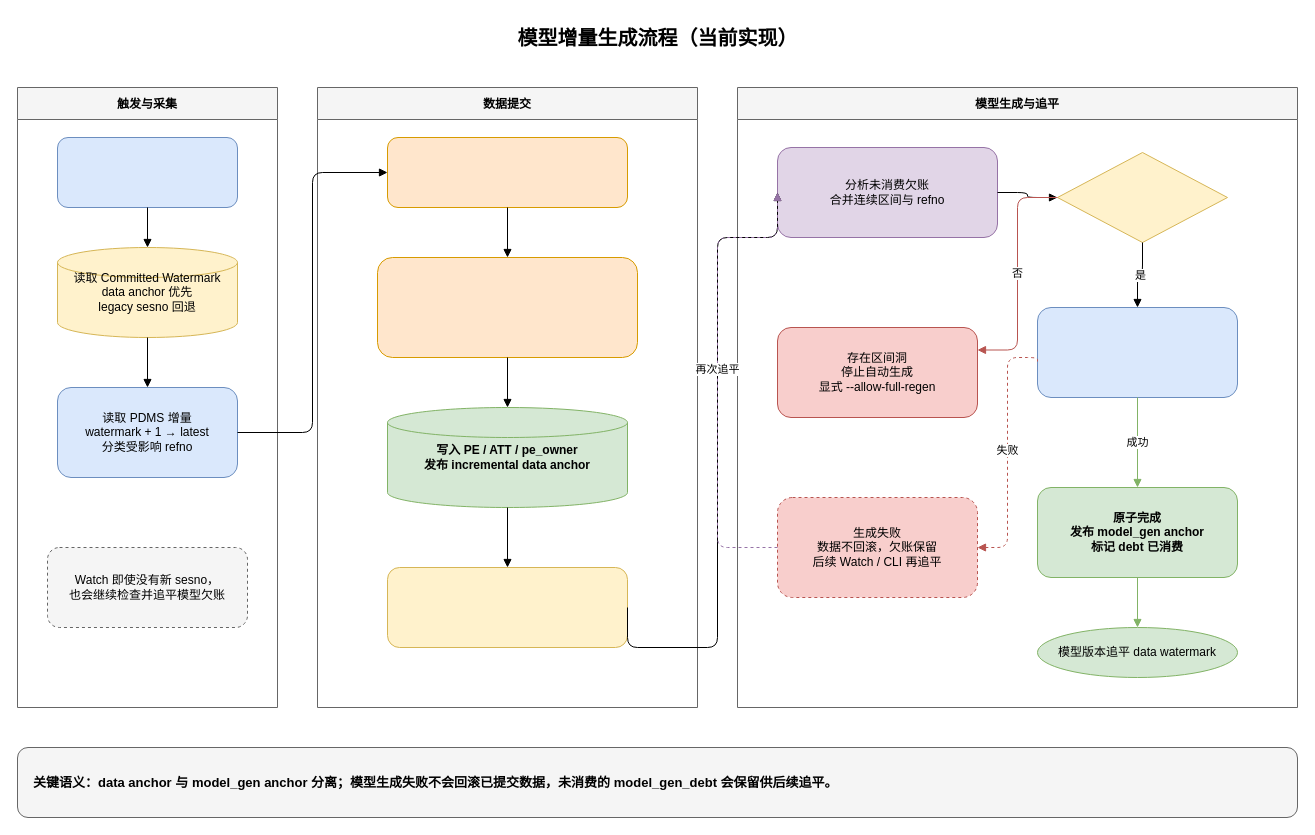
The diagram is 1315 pixels wide and 835 high, and some of its shapes have lost their labels. Each missing label, with the centre of its shape:
CLI / Watch / HTTP 统一进入 run_increment: point 147,172
Version Commit dbnum 租约 + 连续性检查 指纹幂等 / Pending 恢复: point 507,307
写入 model_gen_debt 记录本次模型影响范围（幂等）: point 507,607
增量生成模型 gen_all_geos_data 可选 Parquet 后处理: point 1137,352
欠账连续覆盖 data watermark？: point 1142,197
源文件 SHA-256 门禁 采集前后必须一致: point 507,172
